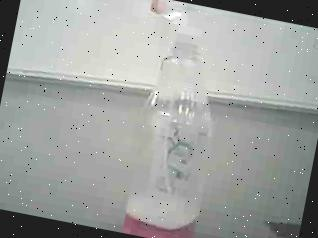hazard: (103, 0, 242, 238)
